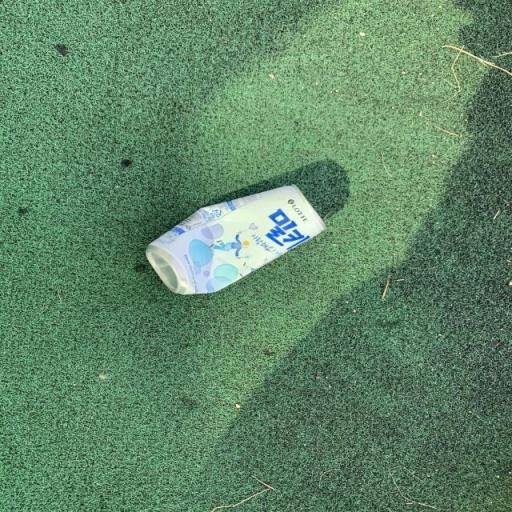metal: (120, 170, 330, 321)
